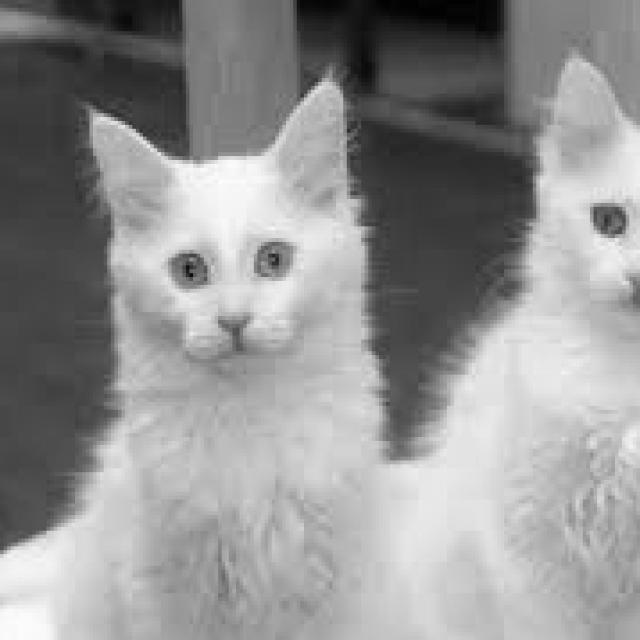van: (78, 77, 362, 390), (529, 39, 640, 340)
